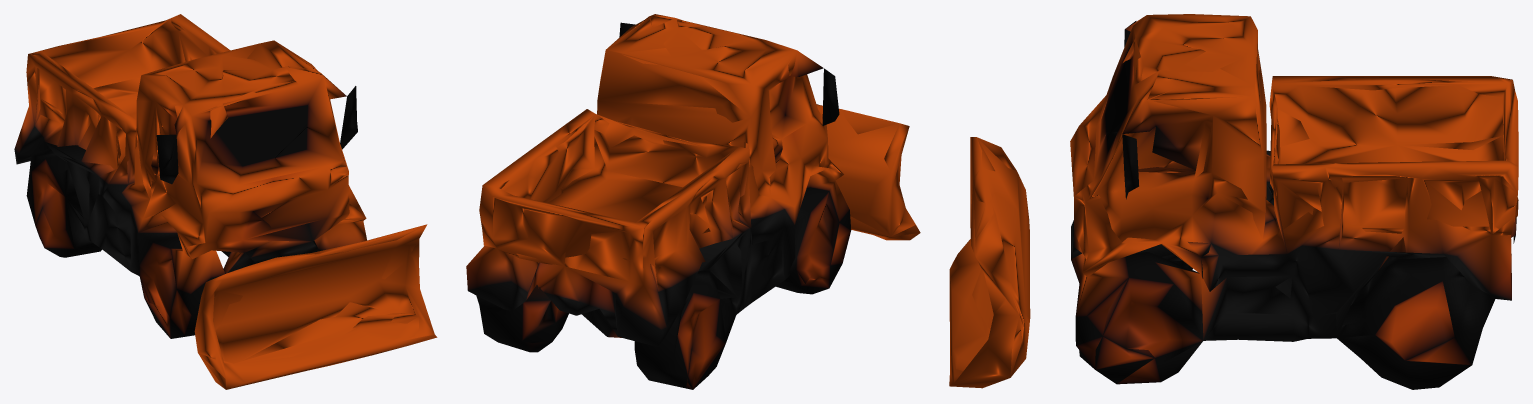
The model's file is gen3d-snowplow-lod0.glb.
3 renders of one model, left to right at view 1: azimuth 30°, elevation 25°; view 2: azimuth 150°, elevation 25°; view 3: azimuth 270°, elevation 25°, orthographic. The views are drawn at different scales.
Visible parts, largest first — view 1: part_0; view 2: part_0; view 3: part_0.
Boxes of the visible parts, left/top/right/bottom form: part_0: left=14, top=14, right=437, bottom=389; part_0: left=466, top=14, right=920, bottom=389; part_0: left=949, top=14, right=1518, bottom=389.
Bounding box in the file's own units: 0.9427 × 0.9992 × 1.78.
